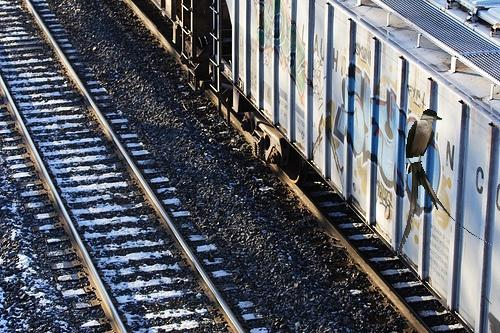tampered: (398, 10, 495, 257)
